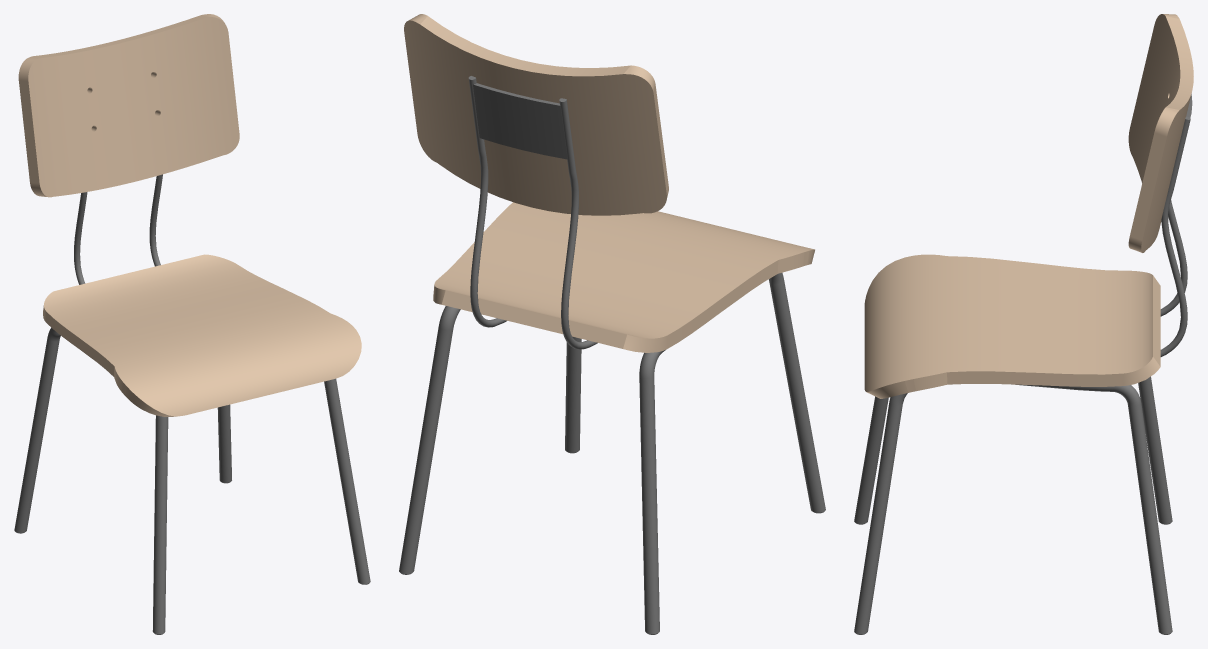
File: 564_ダイニングチェア.glb
The picture shows the model from 3 angles, left to right: view 1: azimuth 30°, elevation 25°; view 2: azimuth 150°, elevation 25°; view 3: azimuth 270°, elevation 25°; orthographic projection. The views are drawn at different scales.
Parts seen in each view (by area): view 1: Body; view 2: Body; view 3: Body.
Boxes of the visible parts, x1,y1,x2,y2 form: Body: (14,14,370,634); Body: (399,14,825,634); Body: (854,14,1193,634).
Bounding box in the file's own units: 0.425 × 0.8281 × 0.4943.
